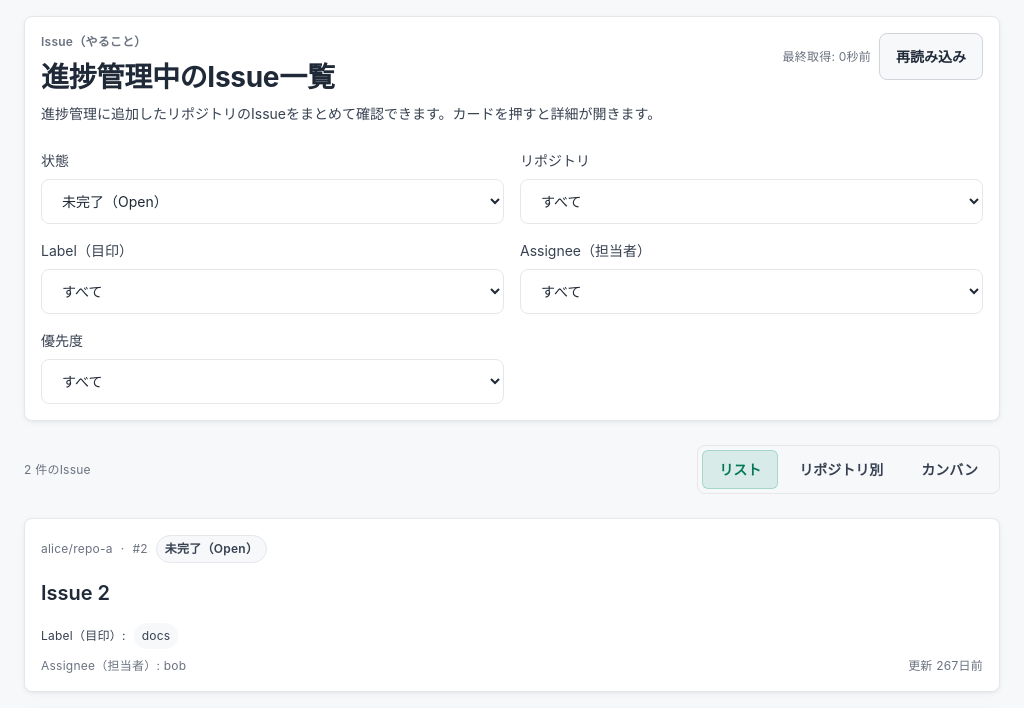
Test case: IssuesHome › changes the displayed count for state, repository, label, and assignee filters
Check: the text "2 件のIssue" is shown, box [24, 461, 91, 479]
Select "bug" in the dropdown named "Label（目印）で絞り込み". click: (272, 292)
box: [41, 269, 504, 314]
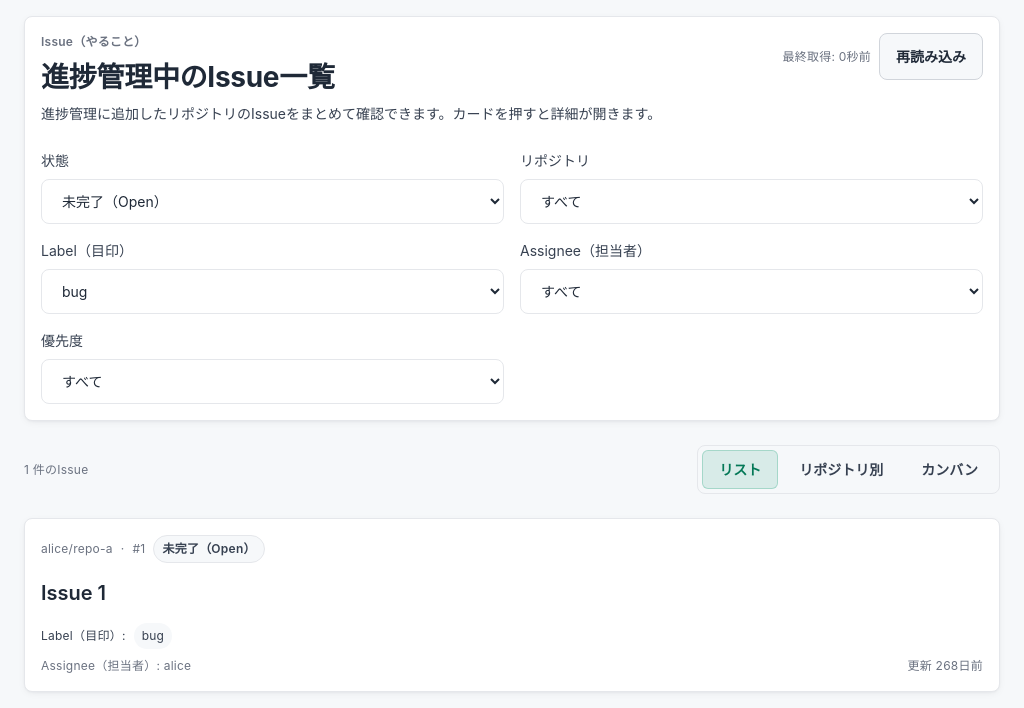
Check: the text "1 件のIssue" is shown, box [24, 461, 88, 479]
Select "bob" in the dropdown named "Assignee（担当者）で絞り込み". click: (752, 292)
box: [520, 269, 983, 314]
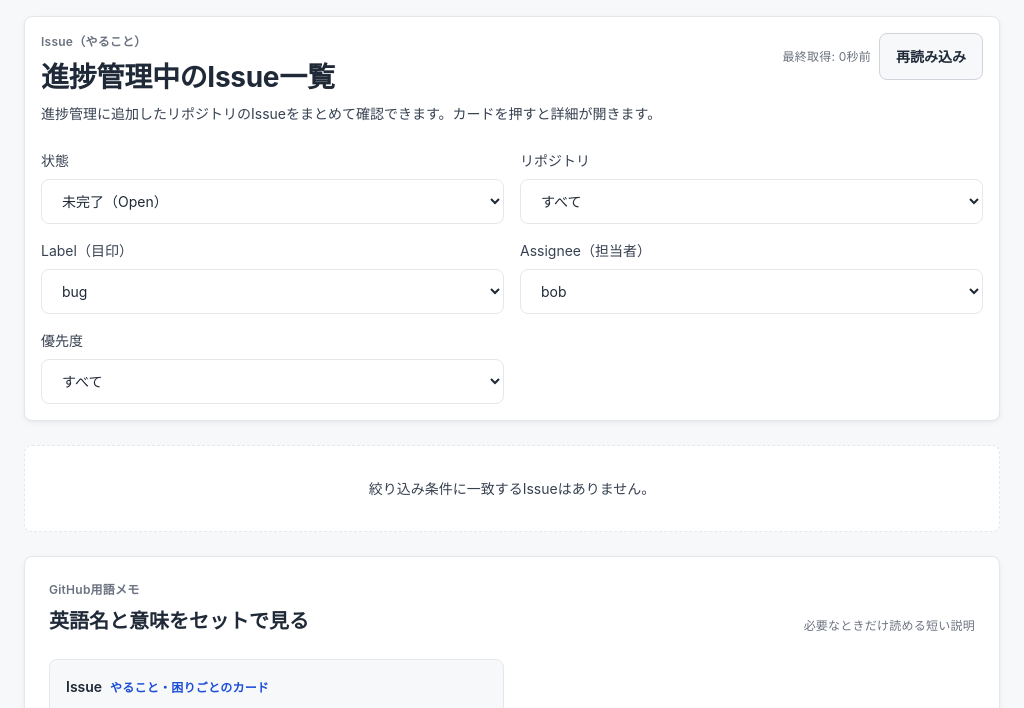
Check: the text "絞り込み条件に一致するIssueはありません。" is shown, box [24, 445, 1000, 532]
Select "alice/repo-b" in the dropdown named "リポジトリで絞り込み". click: (752, 202)
box: [520, 179, 983, 224]
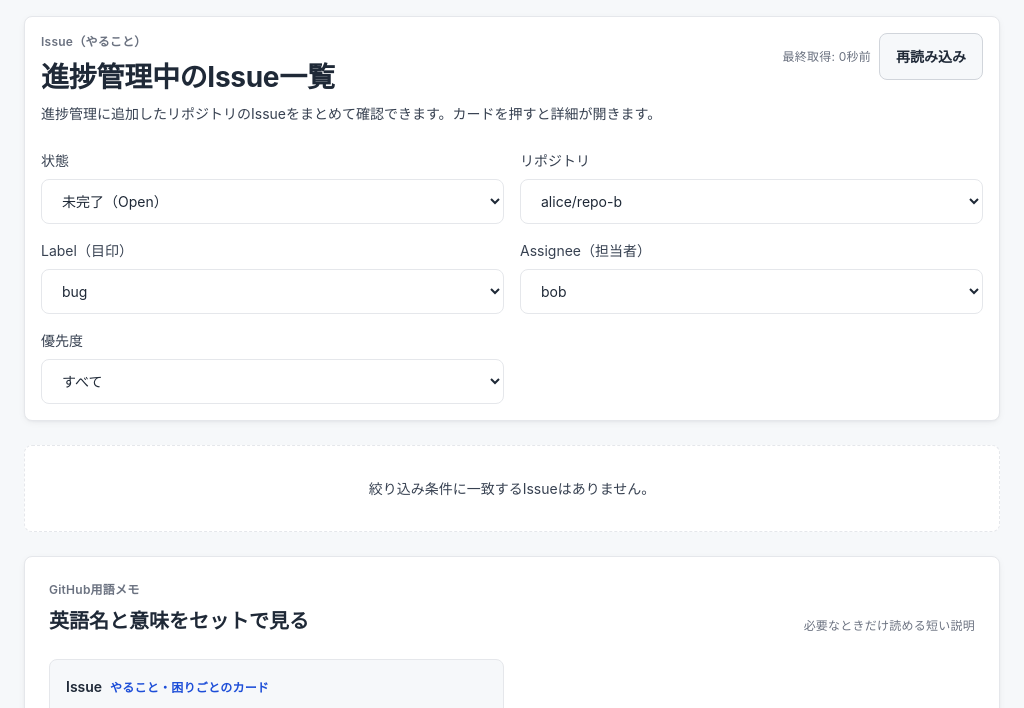
Select "完了（Closed）" in the dropdown named "状態で絞り込み". click: (272, 202)
box: [41, 179, 504, 224]
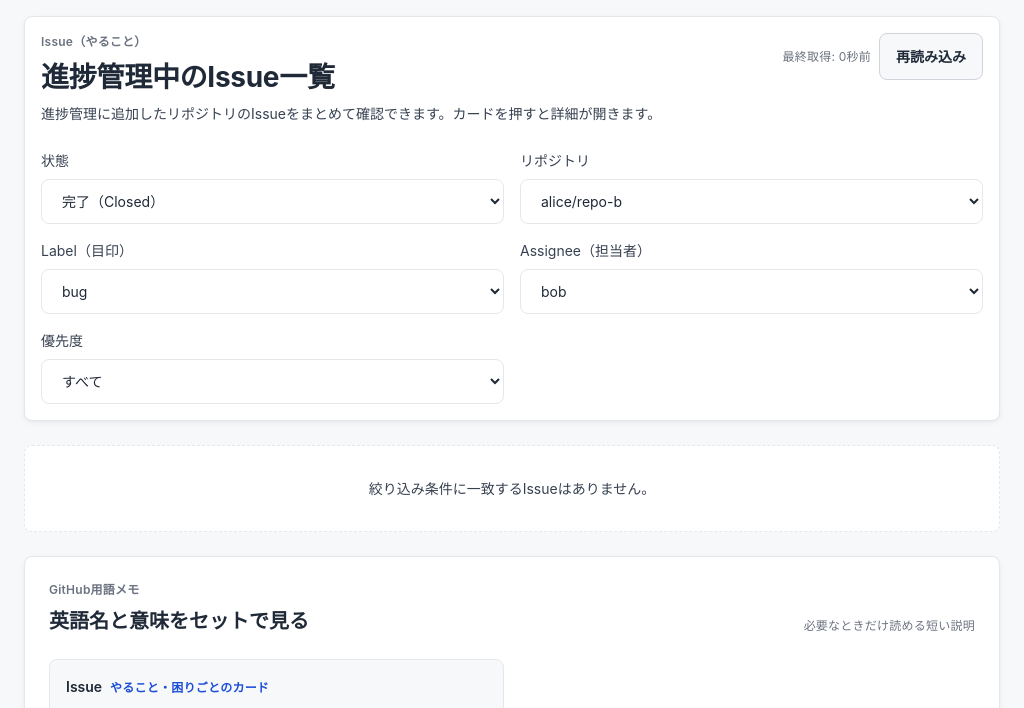
Select "alice" in the dropdown named "Assignee（担当者）で絞り込み". click: (752, 292)
box: [520, 269, 983, 314]
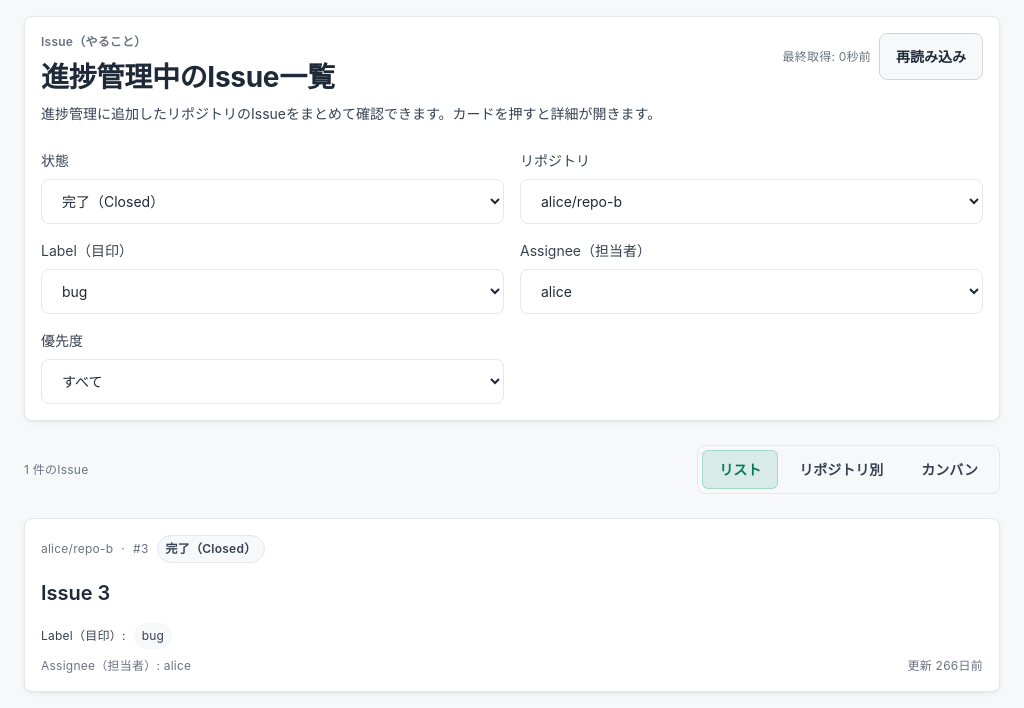
Check: the text "1 件のIssue" is shown, box [24, 461, 88, 479]
Check: the button with aria-label "alice/repo-b #3: Issue 3 の詳細を開く" is shown, box [24, 518, 1000, 692]
